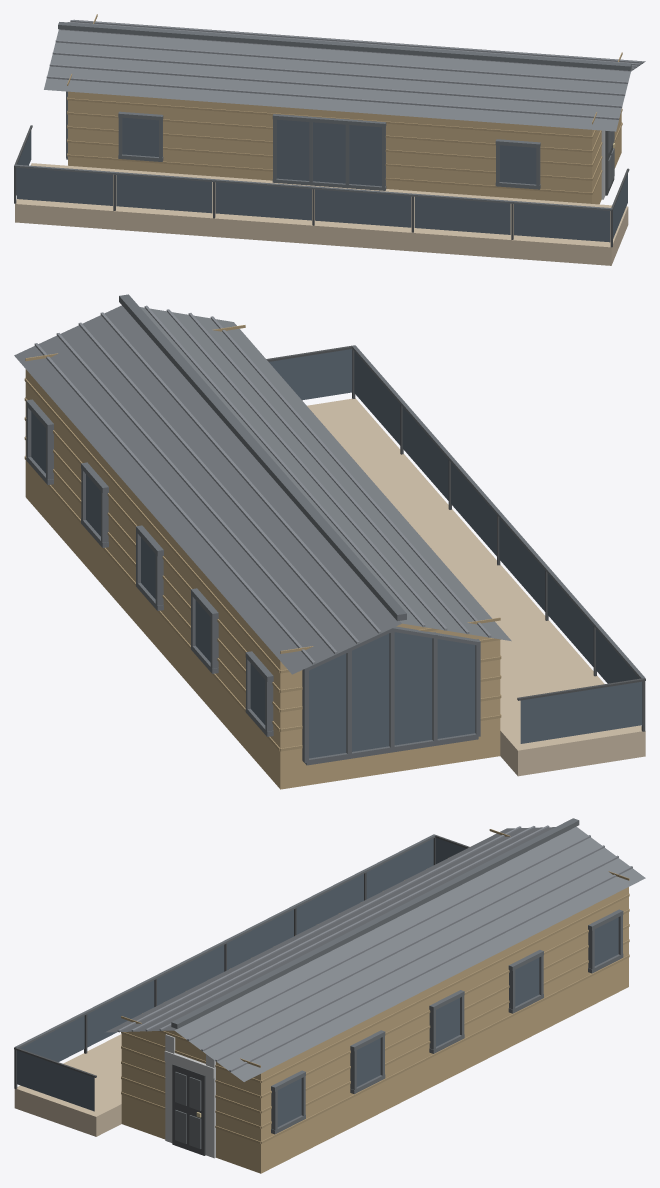
The picture shows the model from 3 angles, top to bottom: view 1: azimuth 30°, elevation 25°; view 2: azimuth 150°, elevation 25°; view 3: azimuth 270°, elevation 25°; orthographic projection. The views are drawn at different scales.
Parts seen in each view (by area): view 1: slate, door_wood, larch, slate_dk, slate_lt, door_wood_p, window_glass_003, window_glass_002, window_glass_005, window_glass_006, window_glass_004, window_glass_001 (+7 smaller); view 2: slate, door_wood, larch, slate_dk, window_glass_014, slate_lt, window_glass_007, door_wood_p, window_glass_008, window_glass_006, window_glass_002, window_glass_005 (+9 smaller); view 3: slate, door_wood, slate_dk, slate_lt, door_wood_p, larch, window_glass_008, stone_band, window_glass_005, window_glass_004, window_glass_001, window_glass_002 (+10 smaller).
Part boxes in pixels (x1,y1,x2,y2): slate: (44, 19, 645, 131); door_wood: (68, 91, 621, 204); larch: (15, 163, 628, 265); slate_dk: (15, 22, 631, 210); slate_lt: (46, 20, 643, 119); door_wood_p: (67, 14, 622, 194); window_glass_003: (215, 182, 311, 220); window_glass_002: (116, 175, 212, 213); window_glass_005: (414, 196, 510, 234); window_glass_006: (514, 204, 610, 242); window_glass_004: (315, 189, 411, 227); window_glass_001: (17, 168, 112, 205); slate: (14, 305, 511, 674); door_wood: (25, 369, 500, 789); larch: (307, 398, 645, 776); slate_dk: (26, 294, 645, 765); window_glass_014: (309, 632, 475, 758); slate_lt: (34, 305, 491, 664); window_glass_007: (520, 681, 642, 743); door_wood_p: (24, 325, 501, 751); window_glass_008: (269, 349, 352, 400); window_glass_006: (354, 351, 400, 445); window_glass_002: (547, 573, 593, 666); window_glass_005: (402, 407, 448, 500); slate: (105, 826, 645, 1081); door_wood: (121, 880, 628, 1173); slate_dk: (15, 818, 623, 1134); slate_lt: (117, 825, 632, 1071); door_wood_p: (121, 829, 629, 1143); larch: (14, 1034, 121, 1136); window_glass_008: (16, 1050, 94, 1111); stone_band: (164, 1034, 215, 1158); window_glass_005: (87, 980, 154, 1047); window_glass_004: (157, 945, 224, 1005); window_glass_001: (366, 838, 433, 898); window_glass_002: (296, 874, 363, 934).
Bounding box in the file's own units: 15.37 × 3.35 × 14.29.
